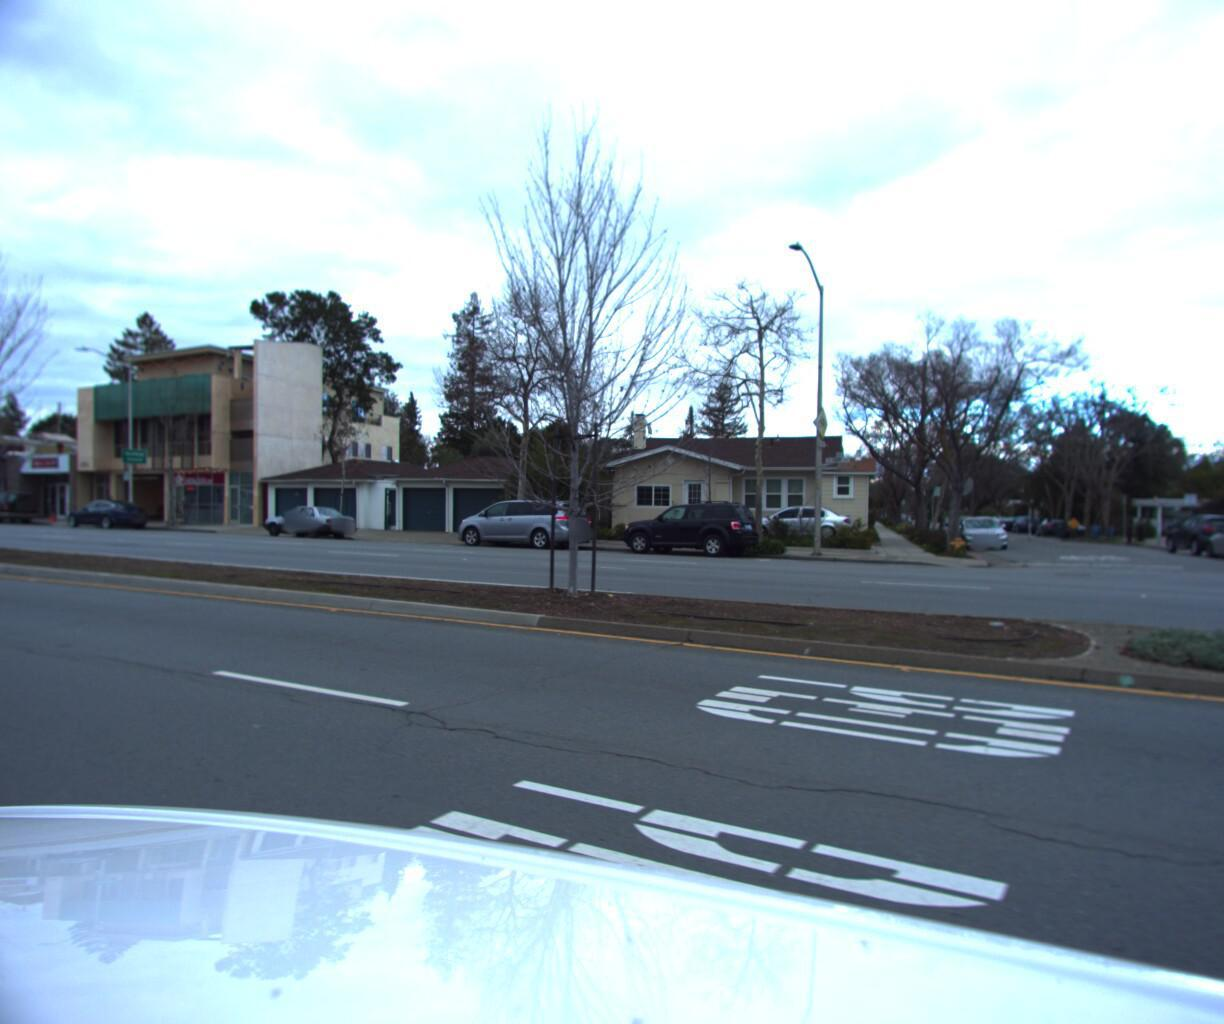car: (609, 500, 764, 560), (444, 500, 597, 554), (729, 504, 855, 546), (252, 506, 362, 544), (56, 503, 151, 535), (1159, 511, 1224, 557), (951, 514, 1009, 551), (1194, 515, 1224, 568), (0, 495, 41, 529), (1032, 513, 1075, 535), (1009, 511, 1041, 532), (989, 510, 1018, 529)
